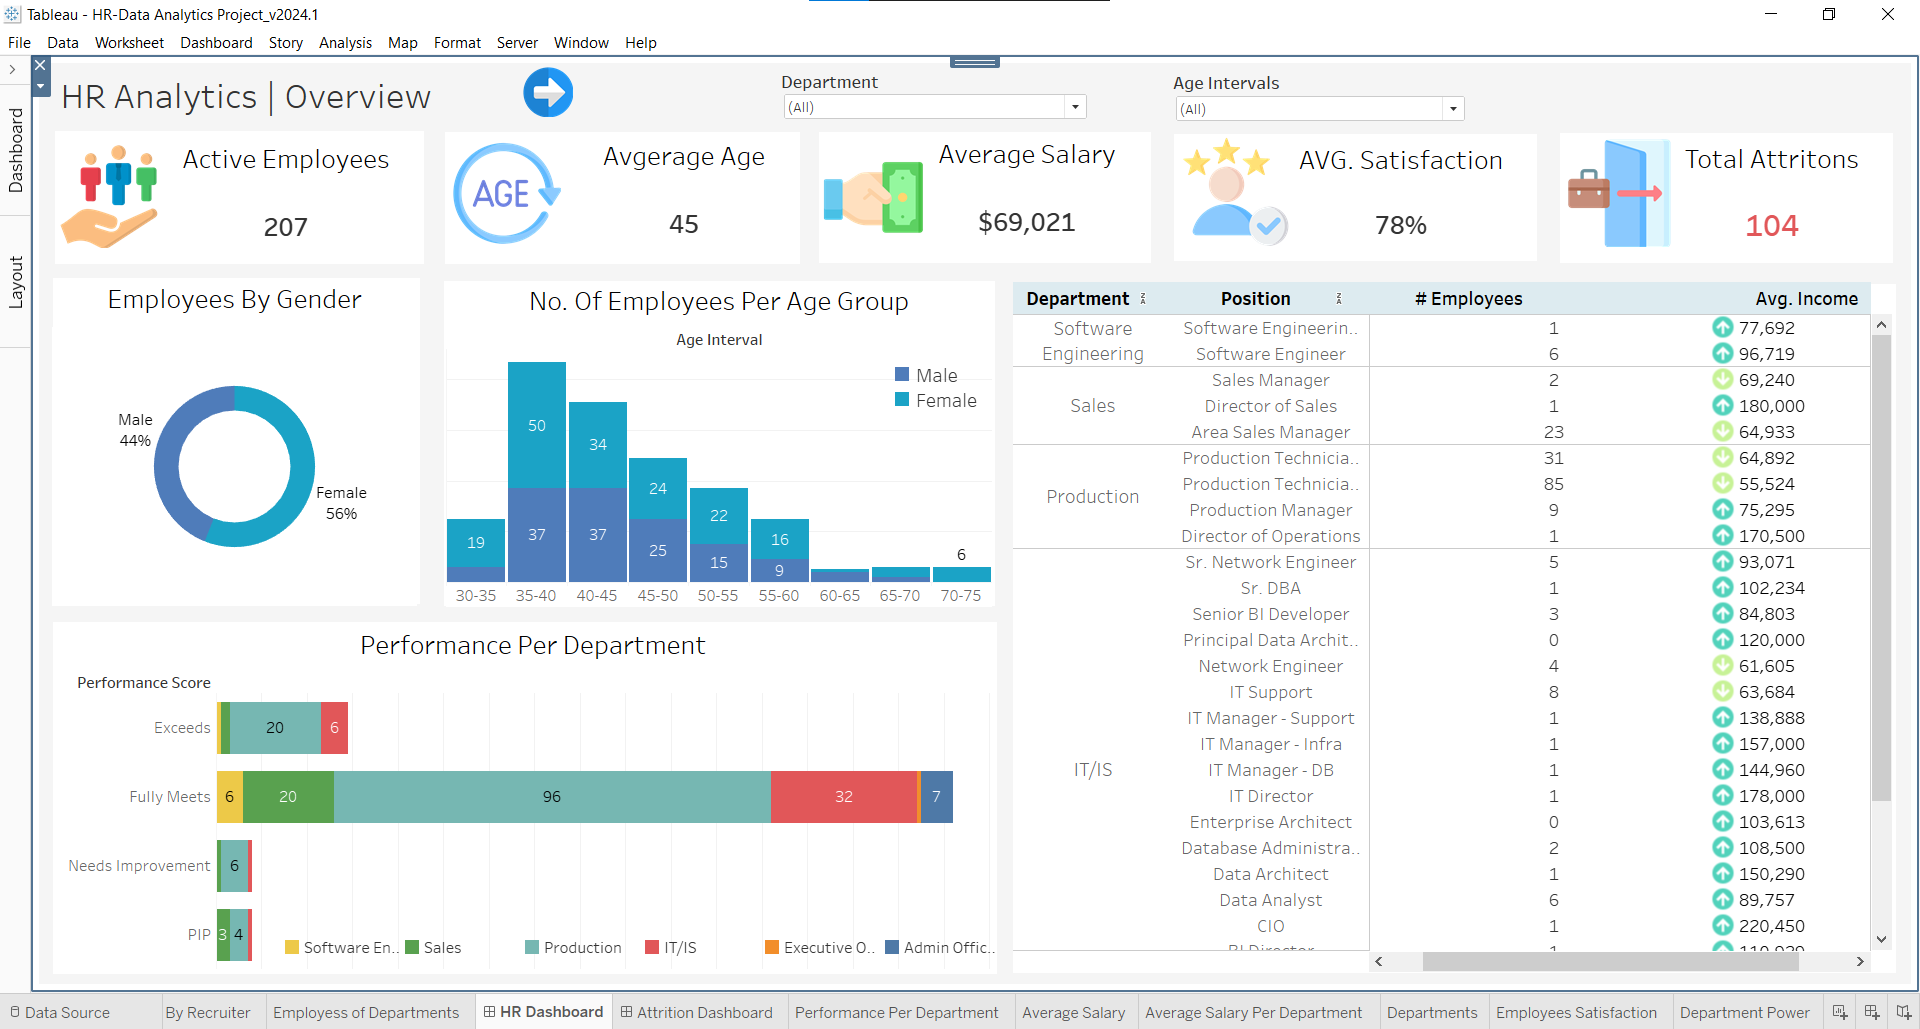

Layout of this report page (visuals, bound fields, positions):
{"tool":"tableau","page":{"name":"HR Dashboard","canvas":[1000,1000],"units":"permille","ordinal":1},"visuals":[{"type":"title","box":[4.2,8.8,991.5,69.2]},{"type":"dashboard-object","box":[226.2,12.8,95.9,53.4]},{"type":"filter","title":"Average Salary","param":"[federated.09xr9or0y63uid14wfy791kt5hc7].[none:Department:nk]","box":[397.2,15.1,163.7,53.4]},{"type":"filter","title":"Number of Employees by each group","param":"[federated.09xr9or0y63uid14wfy791kt5hc7].[none:Calculation_87257279171432459:nk]","box":[604.9,16.3,156.2,55.8]},{"type":"blank","box":[12.7,81.3,195.5,141.7]},{"type":"blank","box":[219.1,82.5,188.3,140.5]},{"type":"blank","box":[417.6,82.5,175.6,139.4]},{"type":"worksheet","title":"Average Salary","mark":"Automatic","box":[465.6,82.5,124.2,135.9]},{"type":"blank","box":[809.9,83.6,176.2,138.2]},{"type":"worksheet","title":"Employee avg. Age","mark":"Automatic","box":[286.1,84.8,119.5,135.9]},{"type":"blank","box":[605.3,84.8,192.5,135.9]},{"type":"image","param":"Image/reputation.png","box":[607.7,84.8,61,132.4]},{"type":"worksheet","title":"tot employees","mark":"Automatic","box":[64.6,87.1,140.9,135.9]},{"type":"worksheet","title":"tot attrition","mark":"Automatic","box":[861.2,87.1,121.9,131.2]},{"type":"worksheet","title":"Employees Satisfaction","mark":"Automatic","box":[656.6,88.3,137.6,130.1]},{"type":"image","param":"Image/age.png","box":[223.7,89.4,67,115]},{"type":"image","param":"Image/resign.png","box":[812.3,89.4,57.3,127.8]},{"type":"image","param":"Image/employee.png","box":[13.8,96.4,68.3,110.3]},{"type":"image","param":"Image/cash.png","box":[419.2,97.6,53.9,118.5]},{"type":"worksheet","title":"Employees By Gender","mark":"Pie","rows":["Calculation_947726285912793091","Calculation_947726285912813573"],"box":[11.1,236.9,193.3,350.8]},{"type":"blank","box":[11.7,238.1,194.5,348.4]},{"type":"worksheet","title":"Number of Employees by each group","mark":"Bar","rows":["Employee_Name"],"cols":["Calculation_87257279171432459"],"box":[219.7,239.3,289.4,349.6]},{"type":"blank","box":[218.5,241.6,292.3,347.3]},{"type":"worksheet","title":"Department Power","mark":"Automatic","rows":["Department","Position"],"cols":["Calculation_519884321595826181","Calculation_519884321595858950"],"box":[520.2,242.7,465.7,736.4]},{"type":"blank","box":[520.2,243.9,467.5,736.4]},{"type":"legend","title":"Employees By Gender","param":"[federated.09xr9or0y63uid14wfy791kt5hc7].[none:Sex:nk]","box":[455,327.5,51.9,66.2]},{"type":"blank","box":[11.7,605.1,500,375.2]},{"type":"worksheet","title":"Performance Per Department","mark":"Automatic","rows":["PerformanceScore"],"cols":["vtsum"],"box":[13.2,606.3,496.8,369.3]},{"type":"legend","title":"Performance Per Department","param":"[federated.09xr9or0y63uid14wfy791kt5hc7].[none:Department:nk]","box":[132.8,940.8,397.7,33.7]}]}

Visuals, with their boxes on the dashboard's canvas, which has no fixed pixel size, in thousandths of its width and height (x1, y1, x2, y2). These are canvas units, not pixel positions in the 1920x1029 screenshot, which may show the page scaled, cropped or inside an application window:
title: {"left": 4, "top": 9, "right": 996, "bottom": 78}
dashboard-object: {"left": 226, "top": 13, "right": 322, "bottom": 66}
"Average Salary" filter: {"left": 397, "top": 15, "right": 561, "bottom": 68}
"Number of Employees by each group" filter: {"left": 605, "top": 16, "right": 761, "bottom": 72}
blank: {"left": 13, "top": 81, "right": 208, "bottom": 223}
blank: {"left": 219, "top": 82, "right": 407, "bottom": 223}
blank: {"left": 418, "top": 82, "right": 593, "bottom": 222}
"Average Salary" worksheet: {"left": 466, "top": 82, "right": 590, "bottom": 218}
blank: {"left": 810, "top": 84, "right": 986, "bottom": 222}
"Employee avg. Age" worksheet: {"left": 286, "top": 85, "right": 406, "bottom": 221}
blank: {"left": 605, "top": 85, "right": 798, "bottom": 221}
image: {"left": 608, "top": 85, "right": 669, "bottom": 217}
"tot employees" worksheet: {"left": 65, "top": 87, "right": 206, "bottom": 223}
"tot attrition" worksheet: {"left": 861, "top": 87, "right": 983, "bottom": 218}
"Employees Satisfaction" worksheet: {"left": 657, "top": 88, "right": 794, "bottom": 218}
image: {"left": 224, "top": 89, "right": 291, "bottom": 204}
image: {"left": 812, "top": 89, "right": 870, "bottom": 217}
image: {"left": 14, "top": 96, "right": 82, "bottom": 207}
image: {"left": 419, "top": 98, "right": 473, "bottom": 216}
"Employees By Gender" worksheet (Pie marks): {"left": 11, "top": 237, "right": 204, "bottom": 588}
blank: {"left": 12, "top": 238, "right": 206, "bottom": 586}
"Number of Employees by each group" worksheet (Bar marks): {"left": 220, "top": 239, "right": 509, "bottom": 589}
blank: {"left": 218, "top": 242, "right": 511, "bottom": 589}
"Department Power" worksheet: {"left": 520, "top": 243, "right": 986, "bottom": 979}
blank: {"left": 520, "top": 244, "right": 988, "bottom": 980}
"Employees By Gender" legend: {"left": 455, "top": 328, "right": 507, "bottom": 394}
blank: {"left": 12, "top": 605, "right": 512, "bottom": 980}
"Performance Per Department" worksheet: {"left": 13, "top": 606, "right": 510, "bottom": 976}
"Performance Per Department" legend: {"left": 133, "top": 941, "right": 530, "bottom": 974}
